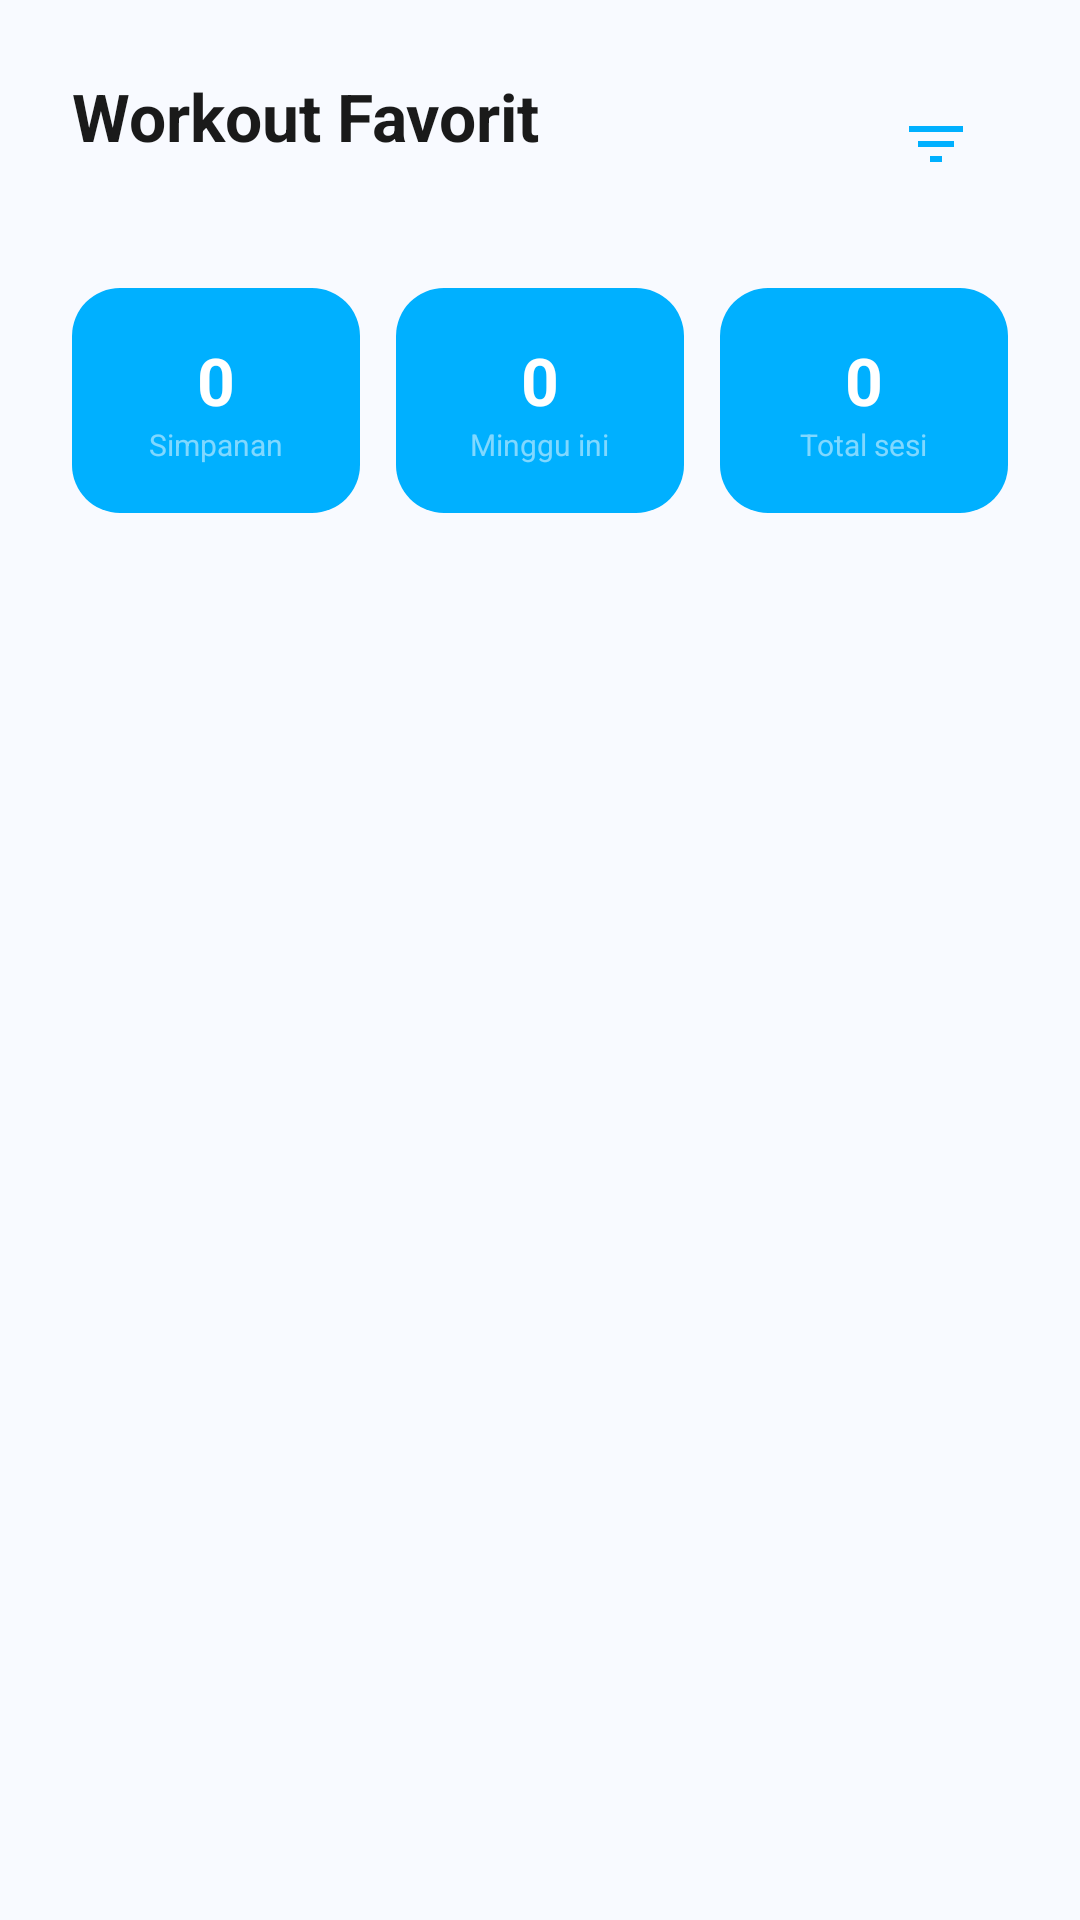

Point at icon controls on the screen. Image size 1080px x 1920px, points as [x,y].
filter: [936,144]
